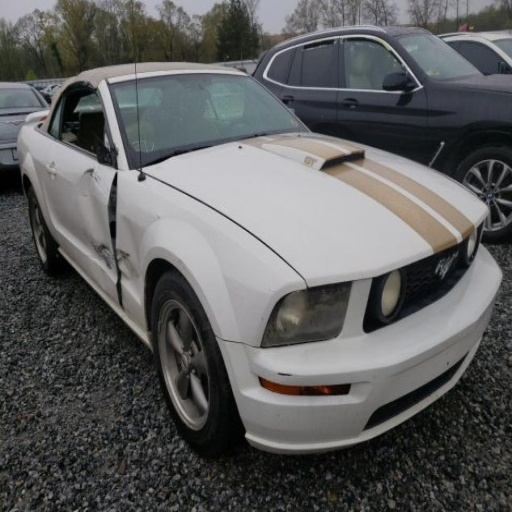dent: (74, 166, 117, 276), (116, 198, 162, 279), (91, 260, 113, 288)
